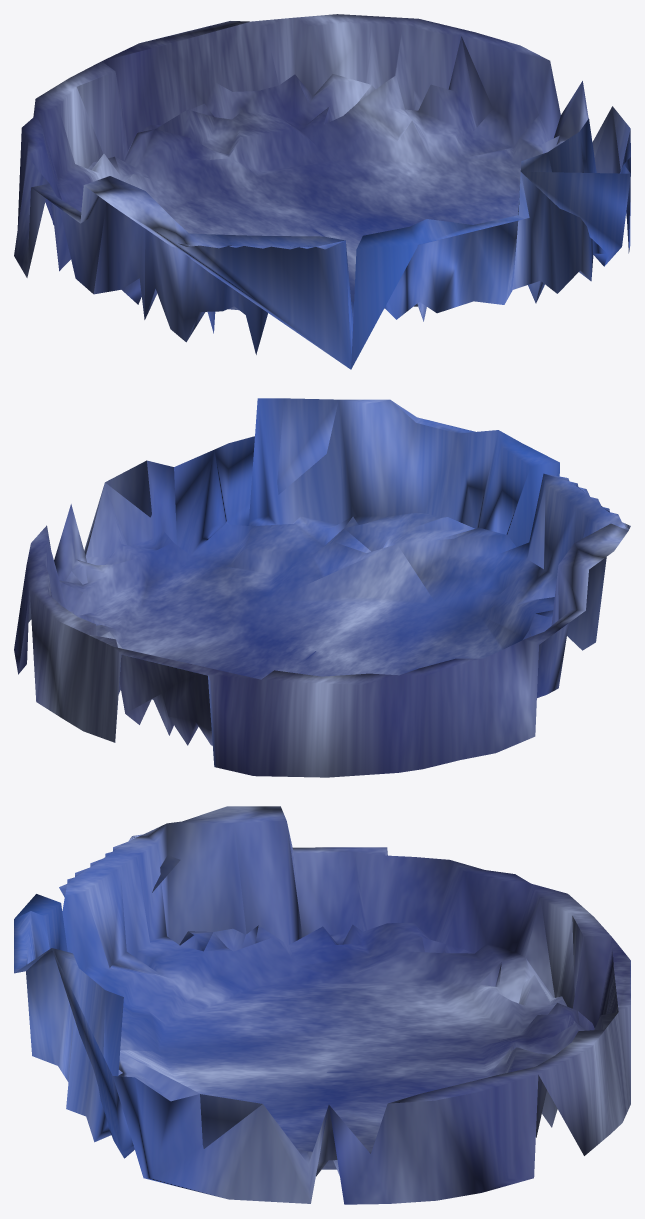
Rendered from ground.obj.
The picture shows the model from 3 angles, top to bottom: view 1: azimuth 30°, elevation 25°; view 2: azimuth 150°, elevation 25°; view 3: azimuth 270°, elevation 25°; orthographic projection. The views are drawn at different scales.
Visible parts, largest first — view 1: 平面; view 2: 平面; view 3: 平面.
Part boxes in pixels (x1,y1,x2,y2): 平面: (14,14,630,369); 平面: (14,398,630,777); 平面: (14,806,630,1204).
Bounding box in the file's own units: 502 × 144 × 500.
1 material, 1 textured.
